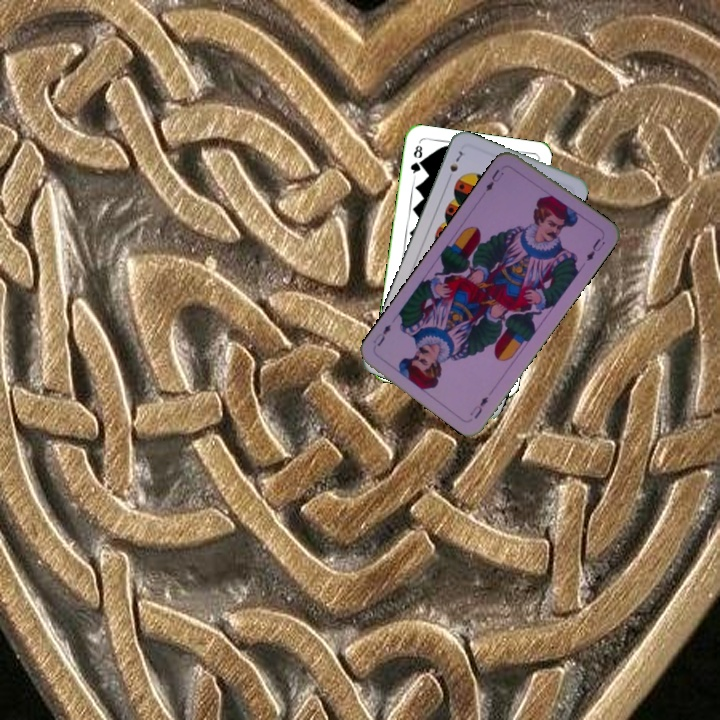EU: (465, 392, 491, 421), (482, 165, 506, 194)
G8: (406, 141, 425, 180)
S7: (443, 146, 465, 184)
